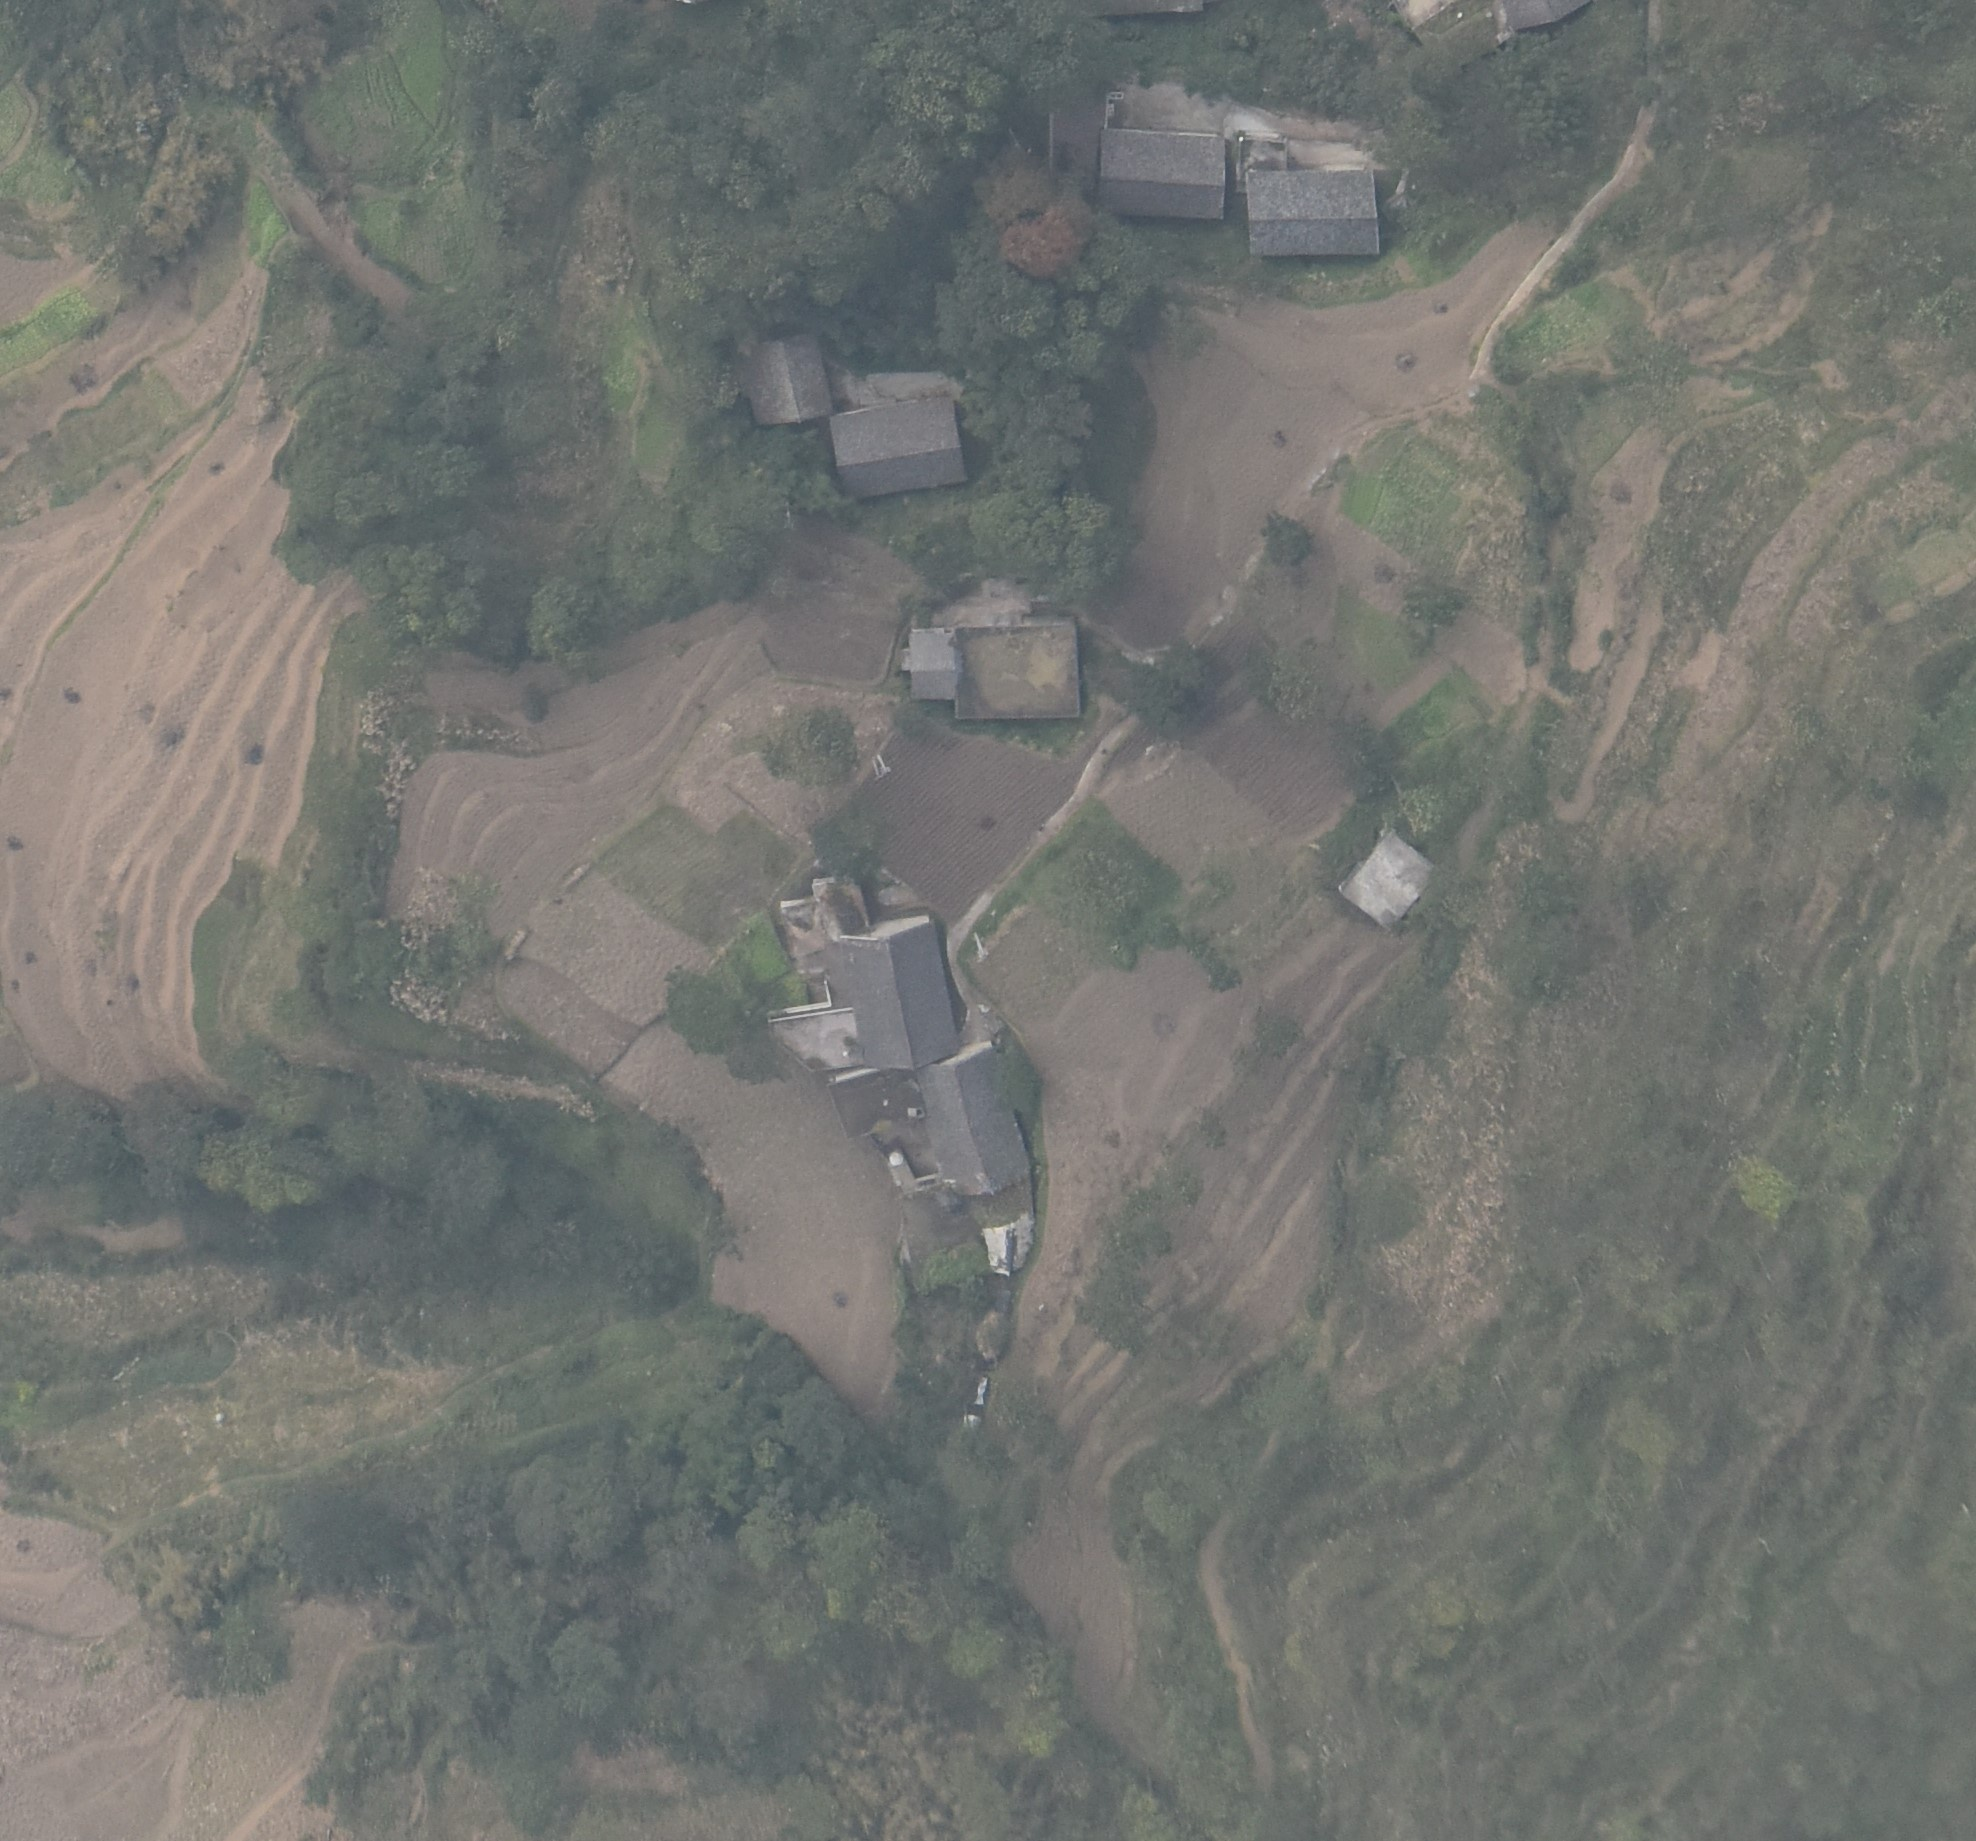building: (837, 920, 960, 1069), (915, 1043, 1031, 1192), (831, 396, 969, 498), (952, 618, 1080, 720), (1095, 130, 1227, 220), (1246, 168, 1381, 254), (1339, 834, 1433, 927), (741, 332, 829, 424), (907, 630, 957, 701)
cable-tower: (972, 931, 986, 964), (876, 753, 889, 775), (870, 754, 881, 784)
